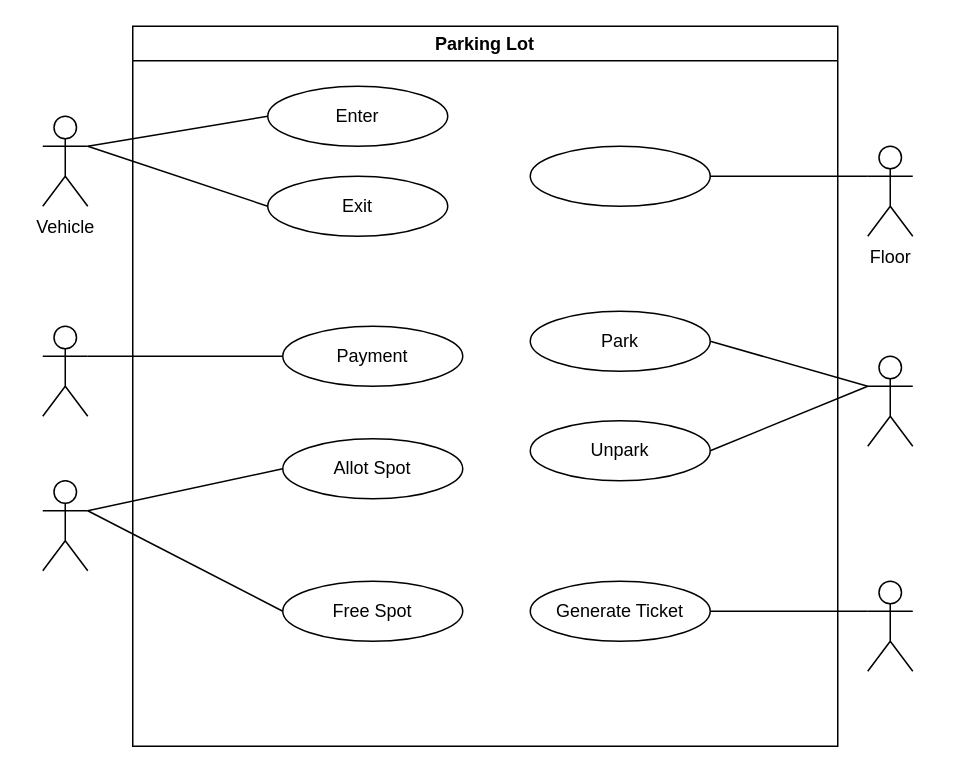
Some shapes in this 959 by 773 pixel diagram are drawn without their labels. The shapes that lost their labels are listed below. From the top down, each one's box as (x1, y1, x2, y2) in pixels, then its label:
(529, 145, 710, 206): Show Count
(41, 325, 88, 416): Customer
(866, 355, 913, 446): Spot
(41, 479, 88, 571): Admin
(866, 580, 913, 671): Ticket Generator
